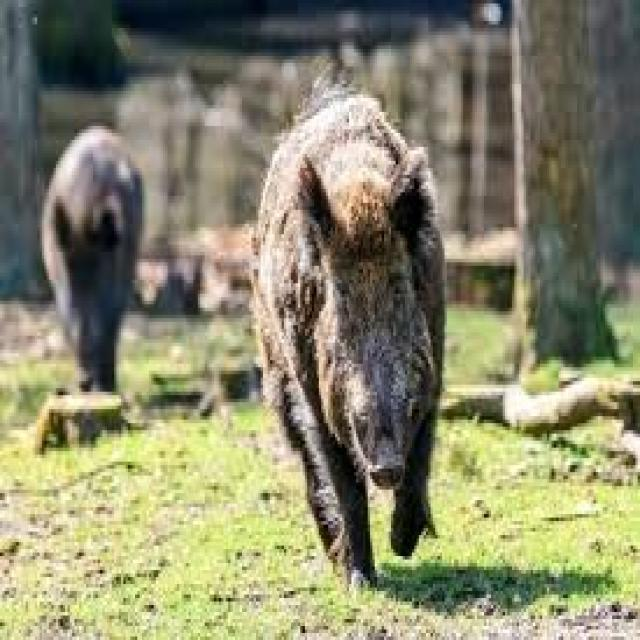boar: (217, 42, 482, 613)
